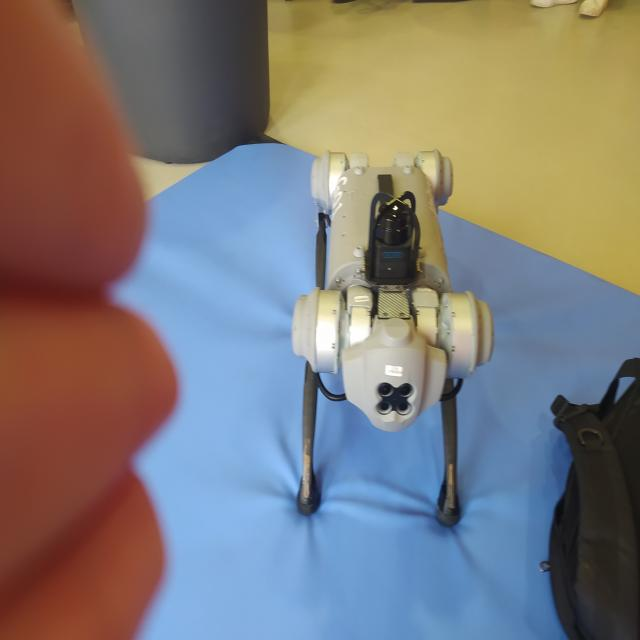unitree-go1-robot: (285, 134, 490, 544)
